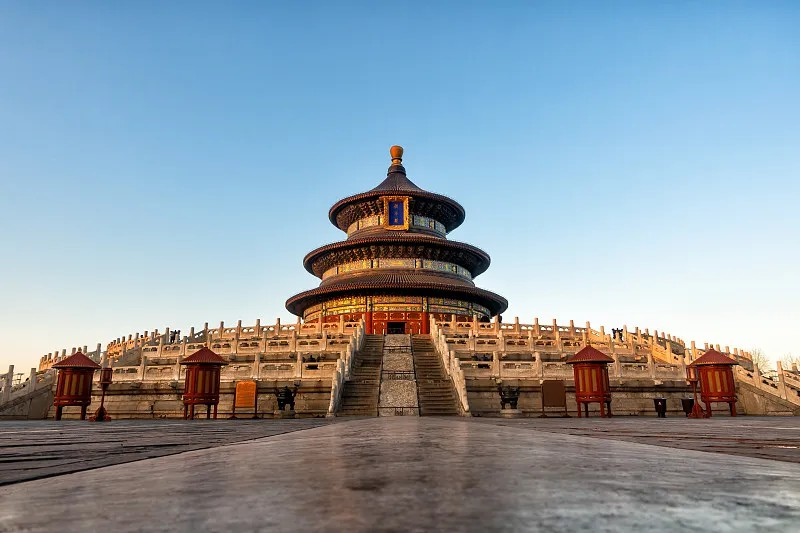Heaven: (284, 145, 508, 334)
